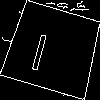I: (27, 24, 53, 72)
